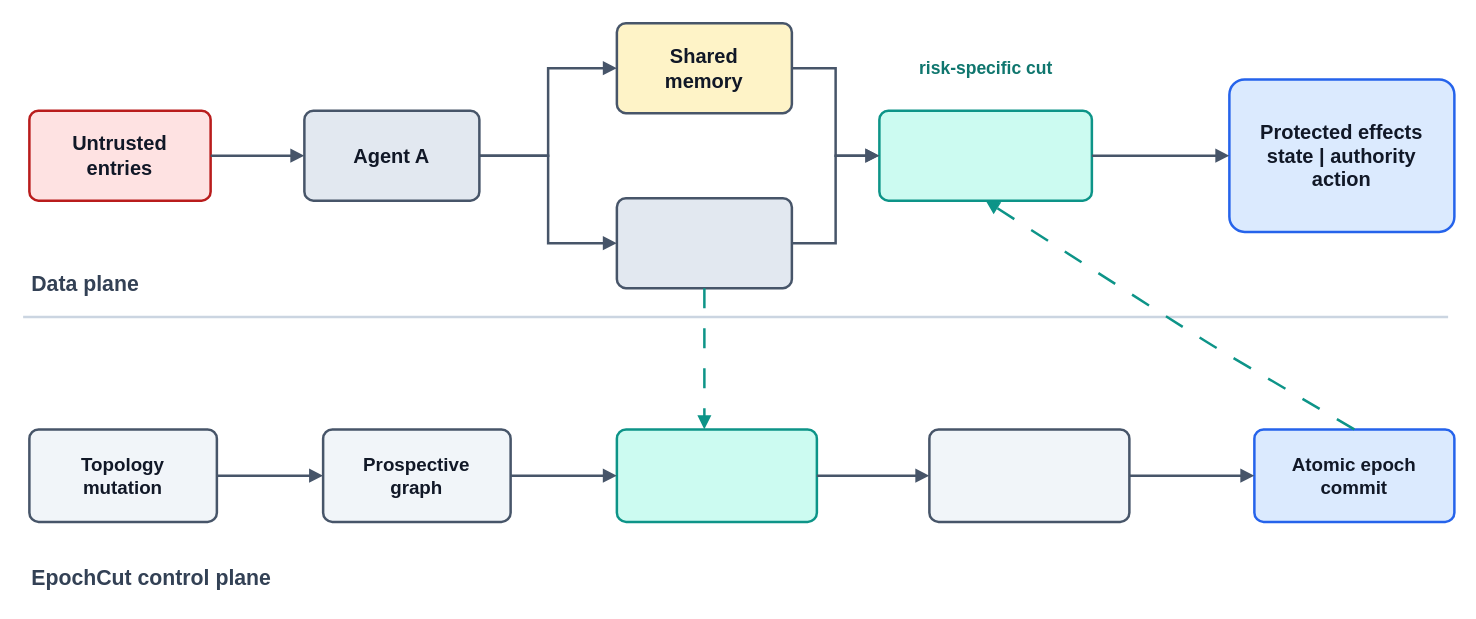
Some shapes in this 1476 by 619 pixel diagram are drawn without their labels. Each missing label, with the box of its shape:
Hash-bound certificate: (928, 428, 1130, 522)
Solve + verify all cuts: (615, 428, 818, 522)
Spawned agent: (615, 196, 792, 289)
Trusted monitor: (878, 109, 1092, 201)
